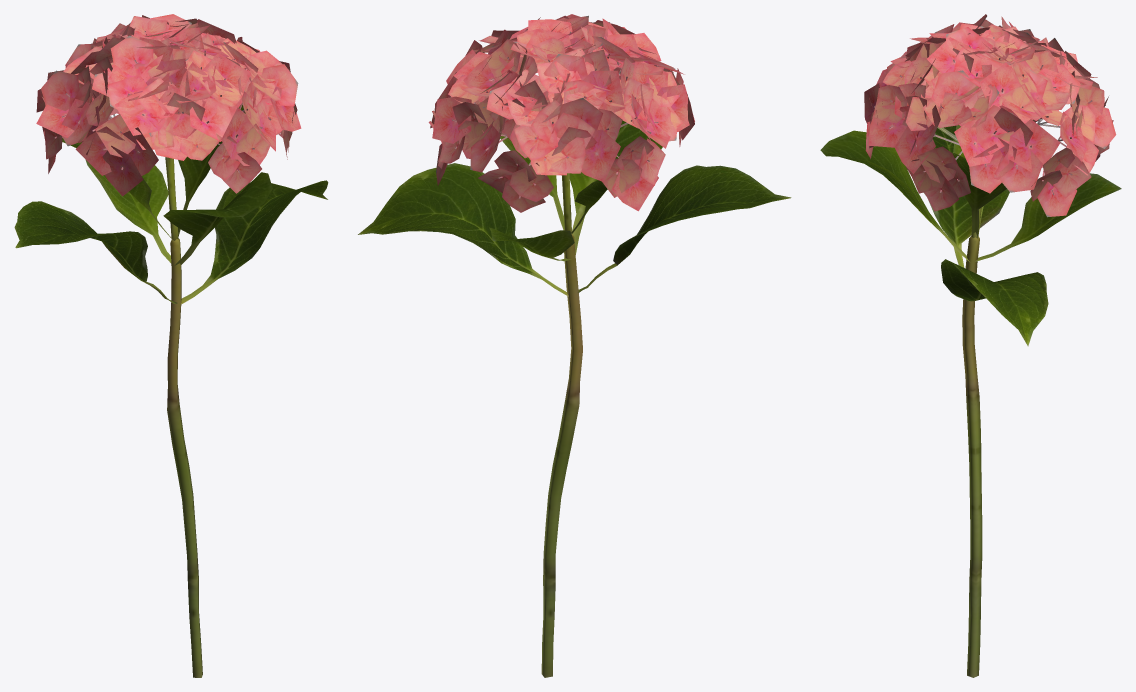
File: Hydrangea_OG_normal_red.glb
3 views of the same model, side by side, from view 1: azimuth 30°, elevation 25°; view 2: azimuth 150°, elevation 25°; view 3: azimuth 270°, elevation 25° (orthographic). The views are drawn at different scales.
Visible parts, largest first — view 1: Hydrangea; view 2: Hydrangea; view 3: Hydrangea.
Boxes of the visible parts, x1,y1,x2,y2 form: Hydrangea: (14, 14, 328, 677); Hydrangea: (358, 14, 791, 677); Hydrangea: (820, 14, 1121, 677).
Bounding box in the file's own units: 1.38 × 2.31 × 1.
Materials: 1 (1 with a texture image).
